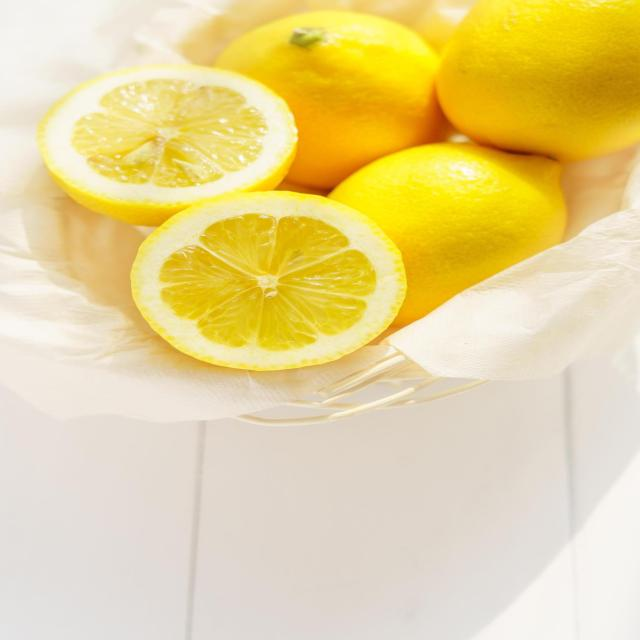lemon: (119, 188, 412, 374), (29, 59, 306, 229)
